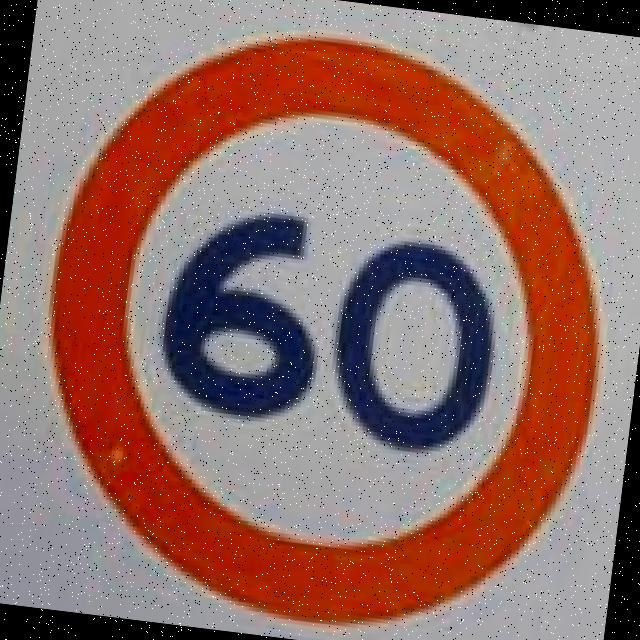Ograniczenie predkosci do 60: (16, 4, 631, 640)
